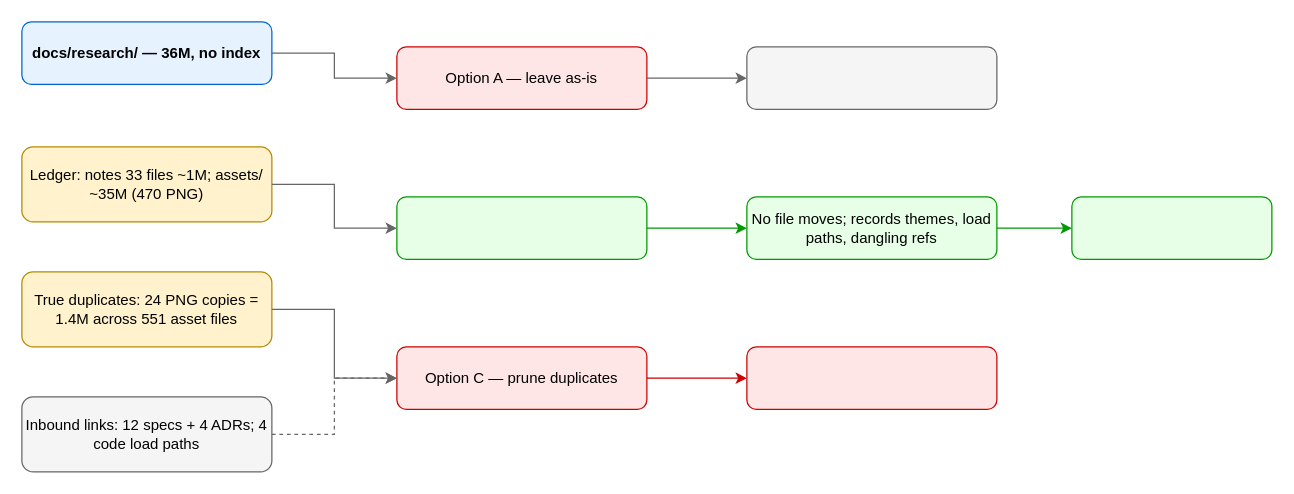
This 1294x494 diagram has some shape labels left out. The centre of each missing label's shape, as x and y in pixels:
"Chosen: B — README.md index, no files touched" belongs at pixel 1171 227.
"Keeps the invisible constraints invisible" belongs at pixel 871 77.
"Option B — add README index" belongs at pixel 521 227.
"Saves 1.4M of 36M; breaks 4 load paths and PR evidence" belongs at pixel 871 377.
